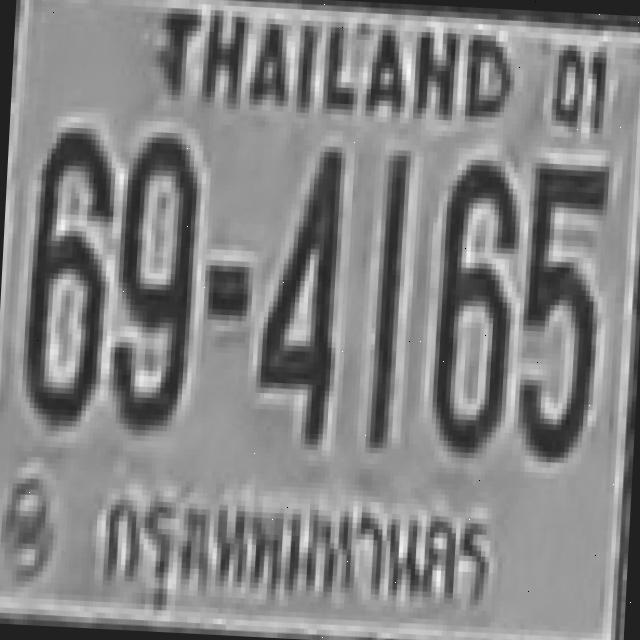0: (122, 130, 205, 318)
4: (253, 138, 342, 440)
5: (512, 157, 606, 459)
6: (24, 123, 118, 420), (426, 153, 519, 450)
9: (108, 139, 202, 430), (108, 166, 200, 430)
Bangkok: (86, 482, 509, 627)
